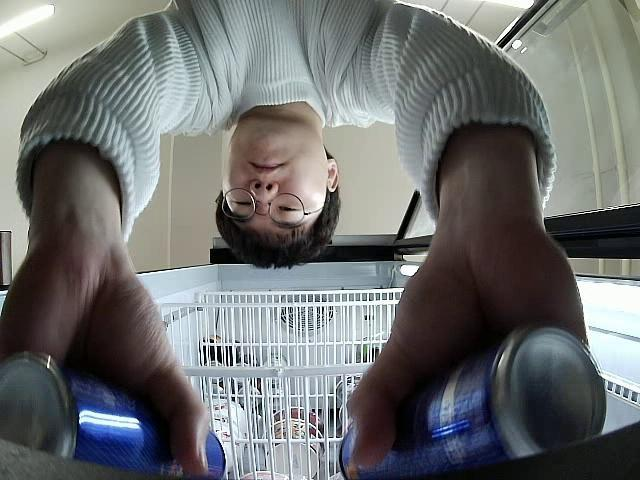16_hot6: (338, 322, 606, 480), (0, 359, 227, 480)
